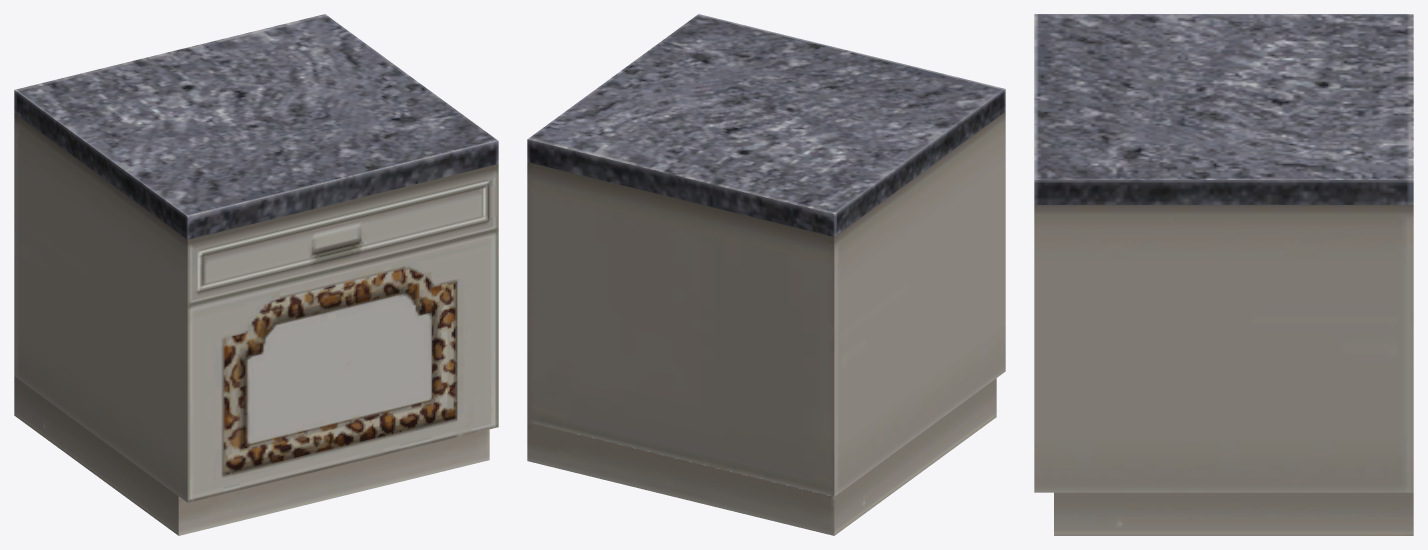
The model's file is furni_0200087.FBX.
The picture shows the model from 3 angles, left to right: view 1: azimuth 30°, elevation 25°; view 2: azimuth 150°, elevation 25°; view 3: azimuth 270°, elevation 25°; orthographic projection. The views are drawn at different scales.
Parts seen in each view (by area): view 1: furni_0200087; view 2: furni_0200087; view 3: furni_0200087.
Boxes of the visible parts, box(x1,y1,x2,y2) form: furni_0200087: box(14, 14, 498, 535); furni_0200087: box(527, 14, 1005, 535); furni_0200087: box(1034, 14, 1413, 535).
Size of the model in its own units: 79.88 by 80 by 77.2.
1 material, 1 textured.
